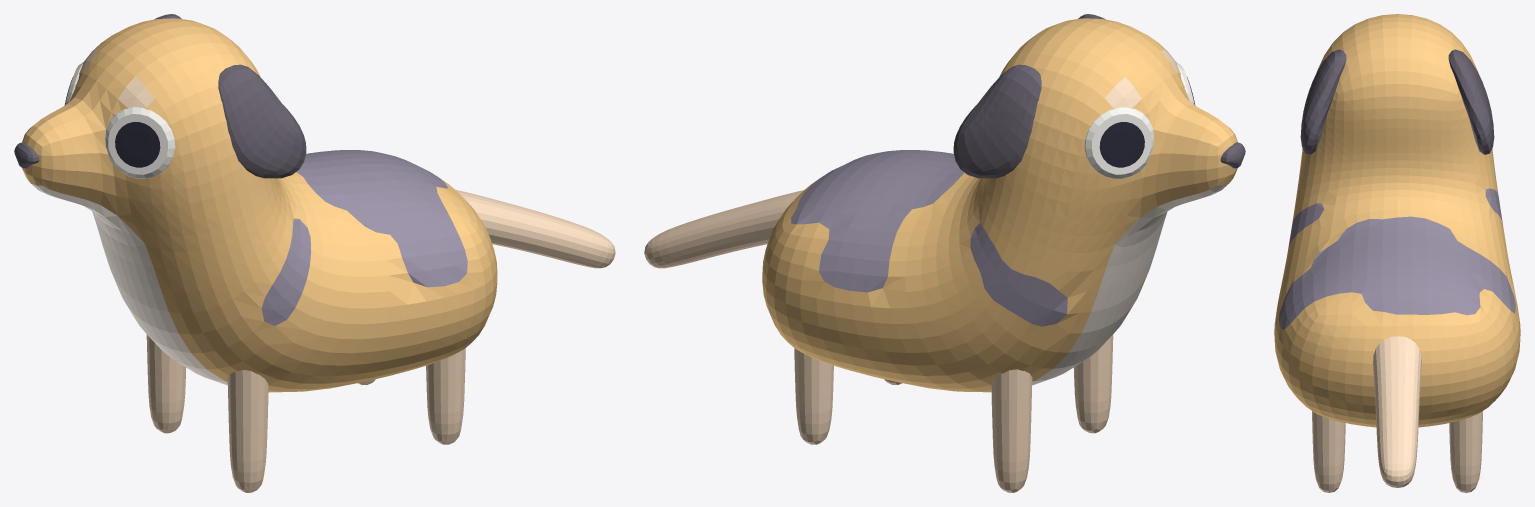
Rendered from Dog_LOD0.fbx.
3 renders of one model, left to right at view 1: azimuth 30°, elevation 25°; view 2: azimuth 150°, elevation 25°; view 3: azimuth 270°, elevation 25°, orthographic. The views are drawn at different scales.
Visible parts, largest first — view 1: Mesh; view 2: Mesh; view 3: Mesh.
Part boxes in pixels (box(x1,y1,x2,y2)): Mesh: box(14, 14, 615, 492); Mesh: box(644, 14, 1245, 492); Mesh: box(1274, 14, 1520, 492).
Size of the model in its own units: 302 by 215 by 129.
Materials: 1 (1 with a texture image).
